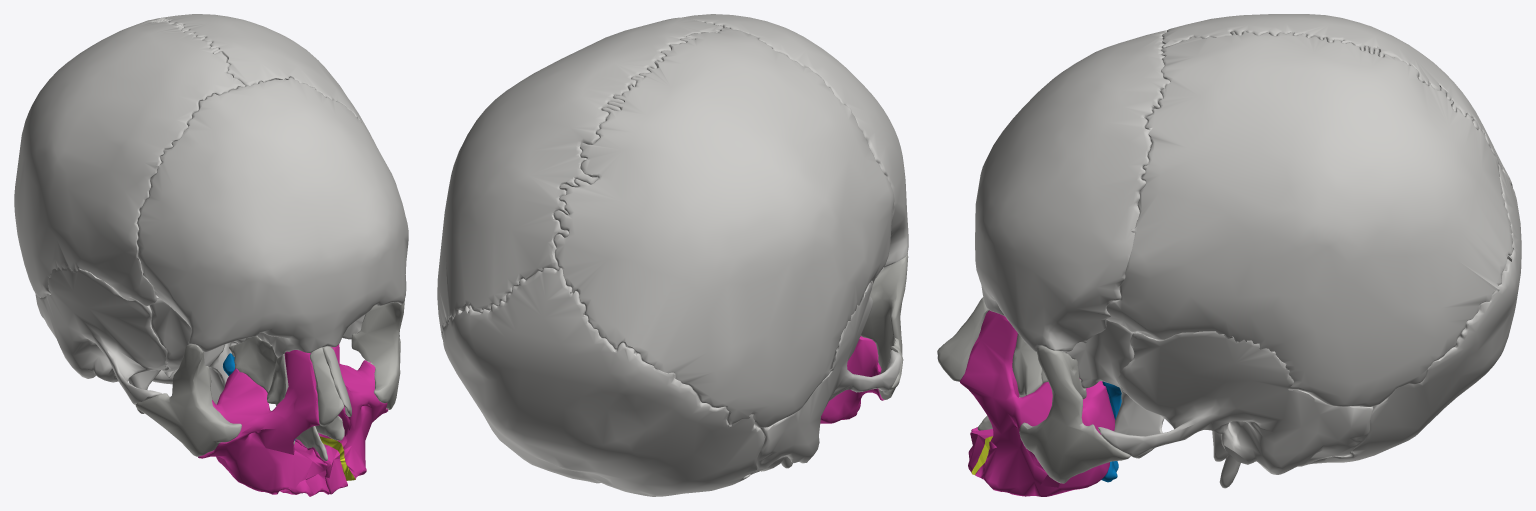
File: cleft-palate-model.glb
3 renders of one model, left to right at view 1: azimuth 30°, elevation 25°; view 2: azimuth 150°, elevation 25°; view 3: azimuth 270°, elevation 25°, orthographic. The views are drawn at different scales.
Visible parts, largest first — view 1: Frontal, Temporal right, Midface, Parietal right, Temporal left, Sphenoid; view 2: Temporal right, Occipital, Temporal left, Frontal, Parietal right, Midface; view 3: Temporal left, Frontal, Parietal left, Midface, Occipital, Temporal right, Sphenoid.
Boxes of the visible parts, x1,y1,x2,y2 form: Frontal: [137, 77, 408, 357]; Temporal right: [14, 18, 245, 306]; Midface: [135, 299, 404, 496]; Parietal right: [35, 266, 167, 413]; Temporal left: [150, 14, 378, 149]; Sphenoid: [149, 297, 365, 404]; Temporal right: [553, 27, 894, 427]; Occipital: [442, 267, 764, 496]; Temporal left: [437, 17, 723, 339]; Frontal: [682, 14, 908, 267]; Parietal right: [749, 276, 901, 474]; Midface: [820, 253, 908, 423]; Temporal left: [1106, 31, 1513, 406]; Frontal: [975, 30, 1170, 352]; Parietal left: [1098, 331, 1373, 488]; Midface: [937, 297, 1130, 496]; Occipital: [1309, 164, 1521, 464]; Temporal right: [1161, 14, 1512, 187]; Sphenoid: [1065, 319, 1164, 458].
Size of the model in its own units: 0.3282 by 0.3743 by 0.4538.
